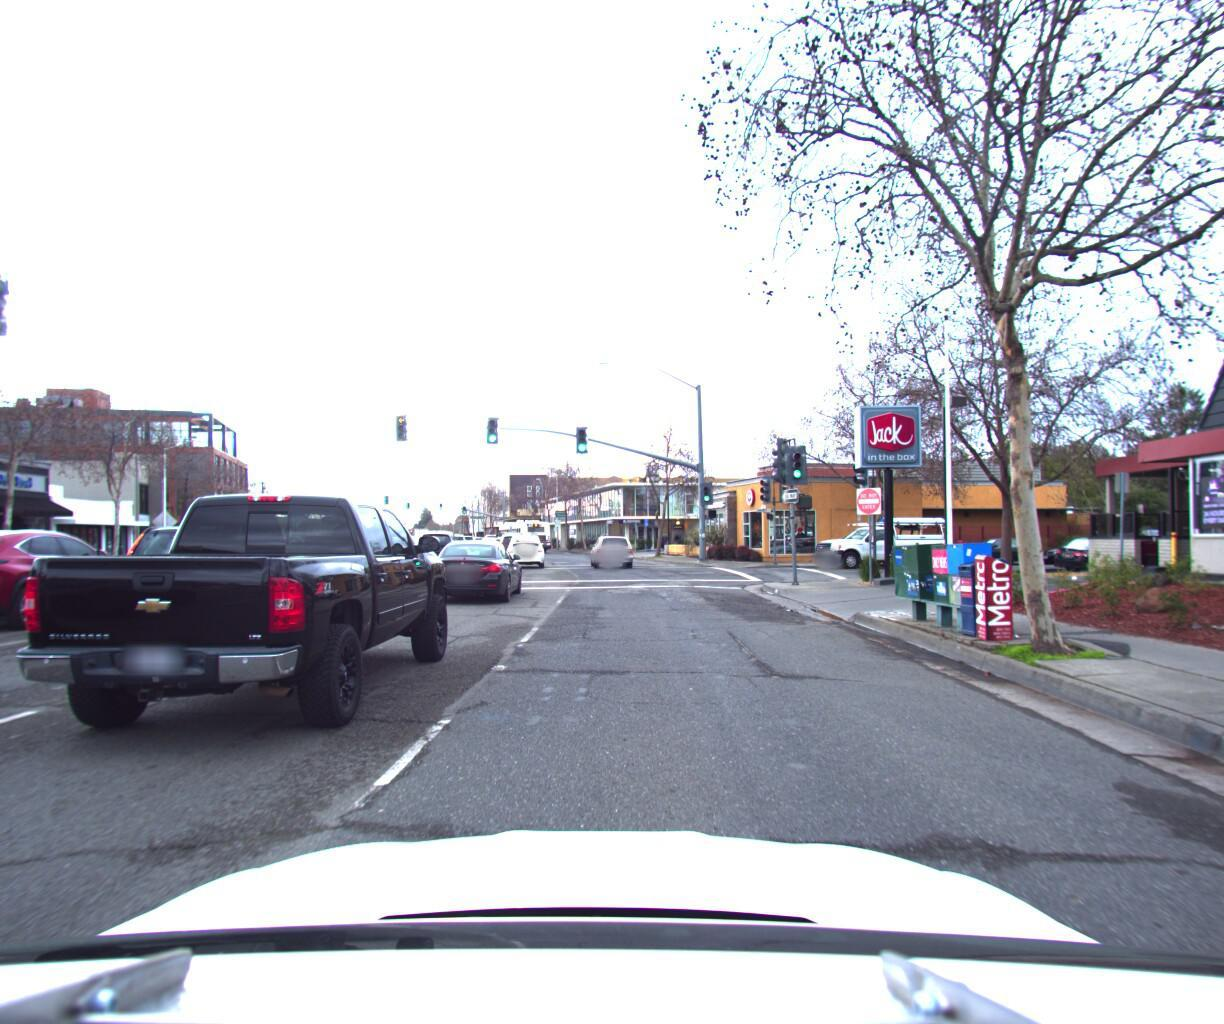bicycle: (1209, 538, 1224, 623)
bus: (512, 508, 556, 549)
car: (107, 515, 341, 638), (801, 507, 958, 567), (416, 529, 528, 604), (1044, 526, 1184, 570), (1026, 526, 1125, 560), (415, 520, 462, 560), (588, 523, 635, 562), (503, 525, 545, 563), (500, 522, 543, 555)
